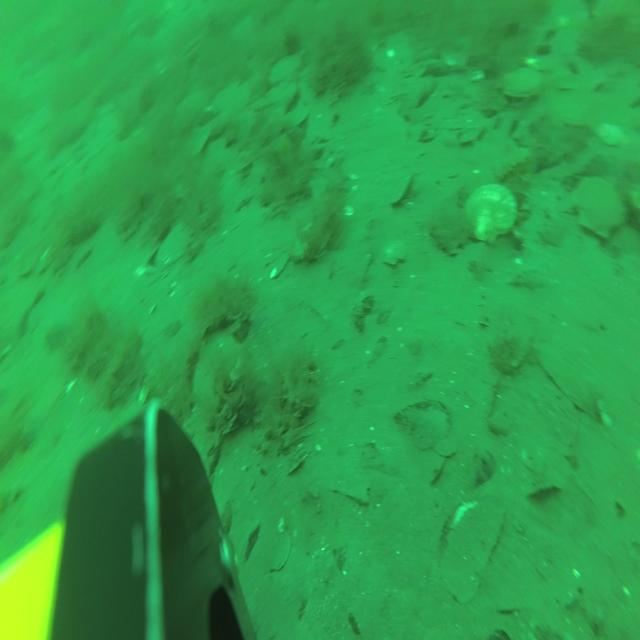scallop: (192, 326, 244, 412), (567, 174, 626, 242), (461, 183, 519, 247), (156, 218, 192, 270), (501, 63, 546, 101), (269, 50, 303, 90), (380, 232, 410, 269)
